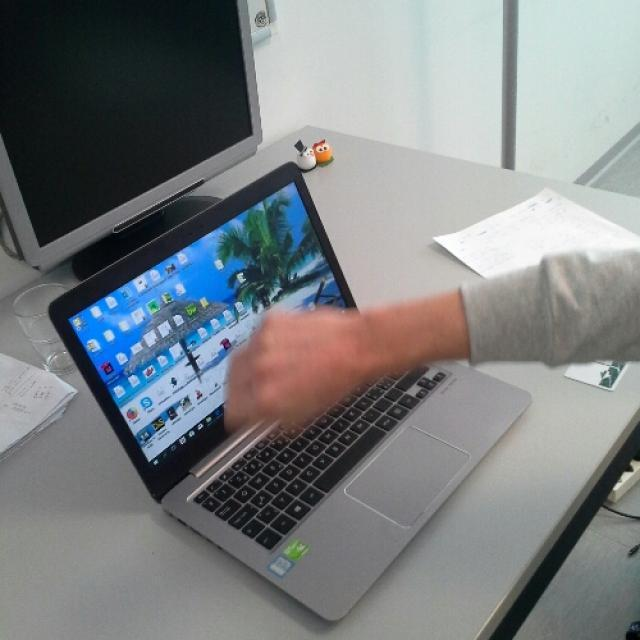rock: (221, 308, 366, 430)
